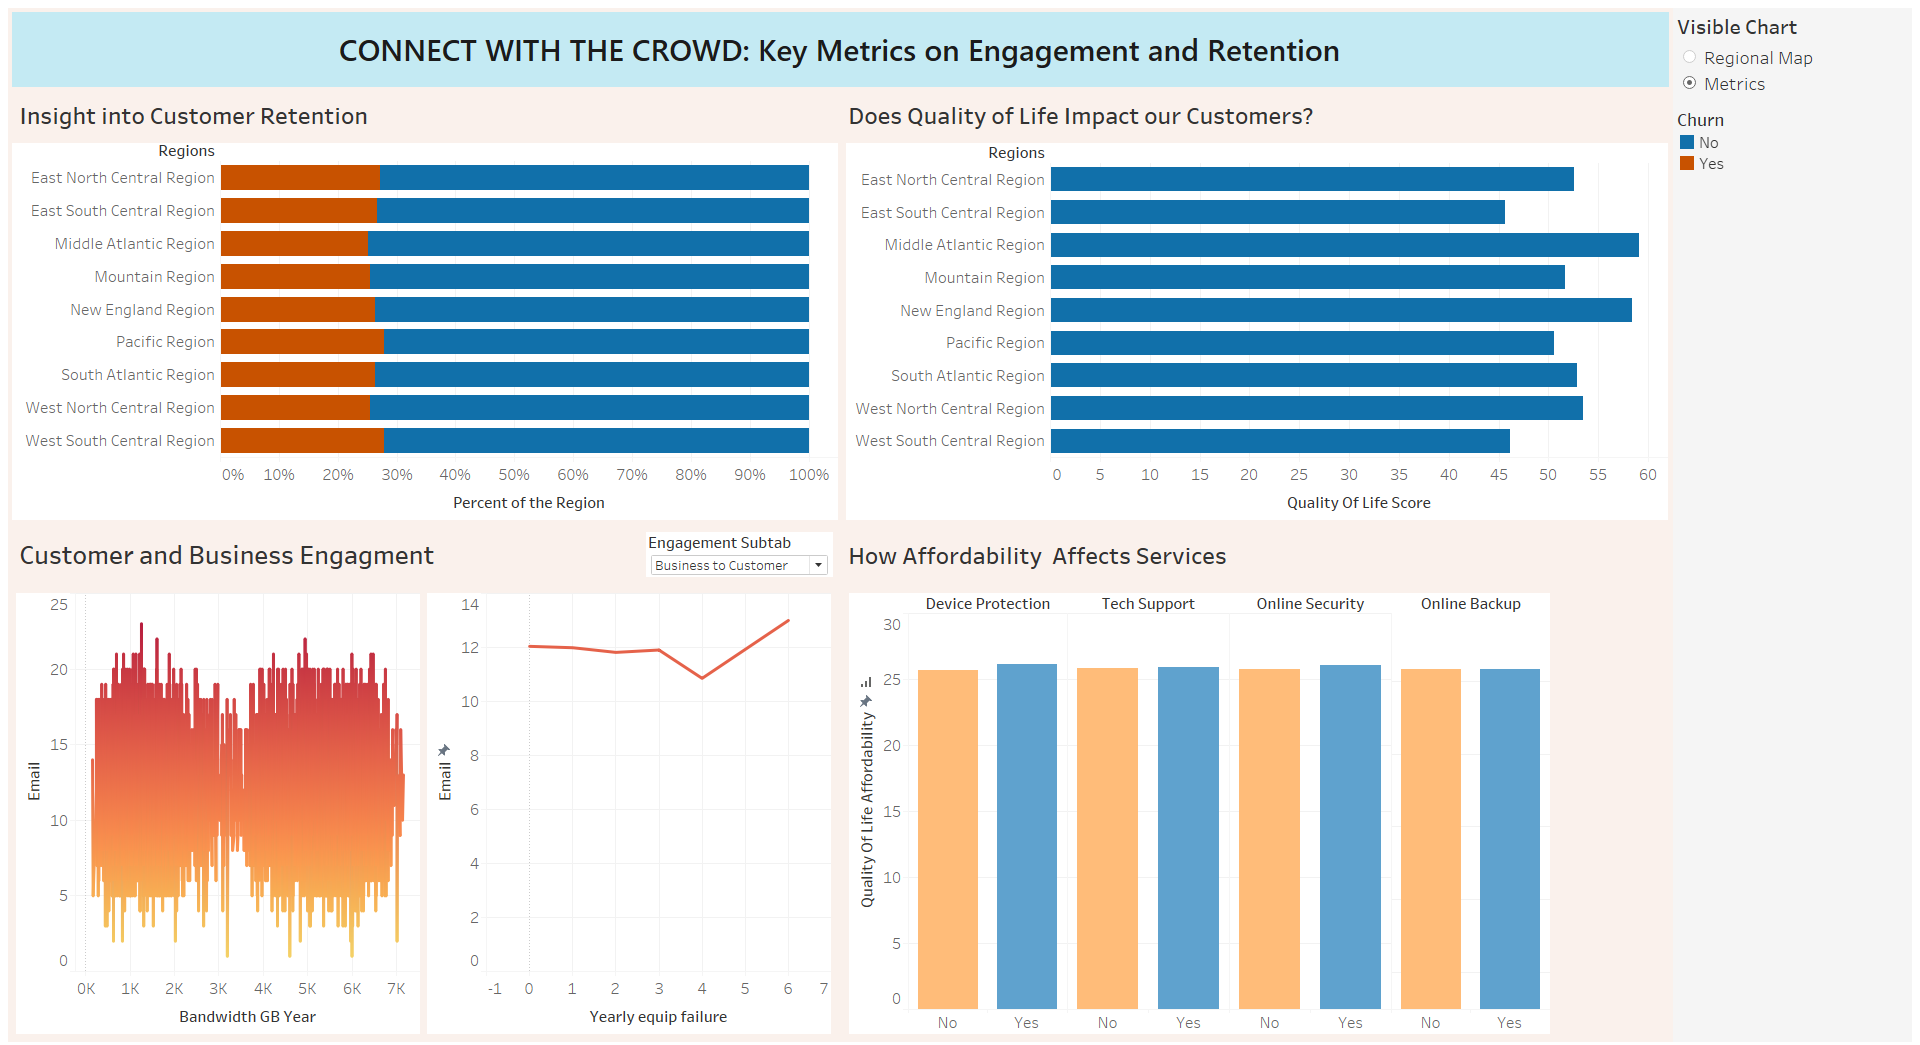

What the dashboard file says about the page in this screenshot:
{"tool":"tableau","page":{"name":"Dashboard","canvas":[1000,1000],"units":"permille","ordinal":0},"visuals":[{"type":"parameter","param":"[Parameters].[Parameter 2]","box":[870.6,9.3,124.6,110.3]},{"type":"worksheet","title":"Dash Title","mark":"Automatic","box":[7.2,13.9,860.9,69.3]},{"type":"worksheet","title":"Regions","mark":"Multipolygon","box":[4.8,87.9,865.7,410.8]},{"type":"text","box":[7.2,92.9,430.9,46.5]},{"type":"text","box":[438.1,92.9,430.3,46.5]},{"type":"legend","title":"Regions","param":"[federated.07l10p31xe8tpb171ylyb1hwssl0].[cnt:Customer_id:qk]","box":[870.6,119.6,124.6,88.3]},{"type":"legend","title":"Regional Churn","param":"[federated.07l10p31xe8tpb171ylyb1hwssl0].[none:Churn:nk]","box":[870.6,119.6,124.6,87.1]},{"type":"worksheet","title":"Regional Churn","mark":"Automatic","box":[4.8,143.7,434.1,355]},{"type":"worksheet","title":"Regional QoL","mark":"Automatic","cols":["QualityOfLifeTotalScore"],"box":[438.9,143.7,431.7,355]},{"type":"text","box":[438.1,498.3,432.7,70.9]},{"type":"text","box":[7.2,502.9,310.8,61.6]},{"type":"text","box":[7.2,502.9,140.6,61.6]},{"type":"blank","box":[147.8,502.9,182.9,61.6]},{"type":"parameter","param":"[Parameters].[Parameter 5]","box":[318.1,502.9,117.7,61.6]},{"type":"parameter","param":"[Parameters].[Parameter 3]","box":[330.7,502.9,105,61.6]},{"type":"text","box":[440.6,502.9,156.9,61.6]},{"type":"blank","box":[597.5,502.9,169.6,61.6]},{"type":"parameter","param":"[Parameters].[Parameter 4]","box":[767.1,502.9,101.4,61.6]},{"type":"worksheet","title":"Gender","mark":"Pie","box":[439.6,561,429.2,313.3]},{"type":"worksheet","title":"Income","mark":"Automatic","rows":["Income"],"cols":["Income (bin)"],"box":[4.8,569.1,433.3,1.2]},{"type":"worksheet","title":"Age","mark":"Automatic","rows":["Age"],"cols":["Age (bin)"],"box":[4.8,570.3,433.3,419.3]},{"type":"worksheet","title":"Email vs Bandwidth","mark":"Automatic","rows":["Email"],"cols":["Bandwidth_GB_Year"],"box":[7.2,573.8,213.6,412.3]},{"type":"worksheet","title":"Email vs Failure","mark":"Automatic","rows":["Email"],"cols":["Yearly_equip_failure"],"box":[220.9,573.8,213.6,412.3]},{"type":"worksheet","title":"Contact vs Bandwidth","mark":"Automatic","rows":["Contacts"],"cols":["Bandwidth_GB_Year"],"box":[434.5,573.8,0.6,412.3]},{"type":"worksheet","title":"Contact vs Failure","mark":"Automatic","rows":["Contacts"],"cols":["Yearly_equip_failure"],"box":[435.1,573.8,0.6,412.3]},{"type":"worksheet","title":"Device Protection","mark":"Automatic","rows":["QualityOfLifeAffordability"],"cols":["DeviceProtection"],"box":[440.6,573.8,133.7,412.3]},{"type":"worksheet","title":"Pop. Dens.","mark":"Pie","box":[440.6,573.8,427.9,382.1]},{"type":"worksheet","title":"Tech Support","mark":"Automatic","rows":["QualityOfLifeAffordability"],"cols":["TechSupport"],"box":[574.2,573.8,98.1,412.3]},{"type":"worksheet","title":"Online Security","mark":"Automatic","rows":["QualityOfLifeAffordability"],"cols":["OnlineSecurity"],"box":[672.3,573.8,98.1,412.3]},{"type":"worksheet","title":"Online Backup","mark":"Automatic","rows":["QualityOfLifeAffordability"],"cols":["OnlineBackup"],"box":[770.3,573.8,98.1,412.3]},{"type":"worksheet","title":"Martial Status","mark":"Pie","box":[440.6,574.9,427.9,382.1]},{"type":"worksheet","title":"Monthly Charge","mark":"Automatic","rows":["MonthlyCharge"],"cols":["Monthly Charge (bin)"],"box":[4.8,989.6,433.3,1.2]}]}

Visuals, with their boxes on the dashboard's canvas, which has no fixed pixel size, in thousandths of its width and height (x1, y1, x2, y2). These are canvas units, not pixel positions in the 1920x1045 screenshot, which may show the page scaled, cropped or inside an application window:
parameter: 871:9:995:120
"Dash Title" worksheet: 7:14:868:83
"Regions" worksheet (Multipolygon marks): 5:88:870:499
text: 7:93:438:139
text: 438:93:868:139
"Regions" legend: 871:120:995:208
"Regional Churn" legend: 871:120:995:207
"Regional Churn" worksheet: 5:144:439:499
"Regional QoL" worksheet: 439:144:871:499
text: 438:498:871:569
text: 7:503:318:564
text: 7:503:148:564
blank: 148:503:331:564
parameter: 318:503:436:564
parameter: 331:503:436:564
text: 441:503:598:564
blank: 598:503:767:564
parameter: 767:503:868:564
"Gender" worksheet (Pie marks): 440:561:869:874
"Income" worksheet: 5:569:438:570
"Age" worksheet: 5:570:438:990
"Email vs Bandwidth" worksheet: 7:574:221:986
"Email vs Failure" worksheet: 221:574:434:986
"Contact vs Bandwidth" worksheet: 434:574:435:986
"Contact vs Failure" worksheet: 435:574:436:986
"Device Protection" worksheet: 441:574:574:986
"Pop. Dens." worksheet (Pie marks): 441:574:868:956
"Tech Support" worksheet: 574:574:672:986
"Online Security" worksheet: 672:574:770:986
"Online Backup" worksheet: 770:574:868:986
"Martial Status" worksheet (Pie marks): 441:575:868:957
"Monthly Charge" worksheet: 5:990:438:991
